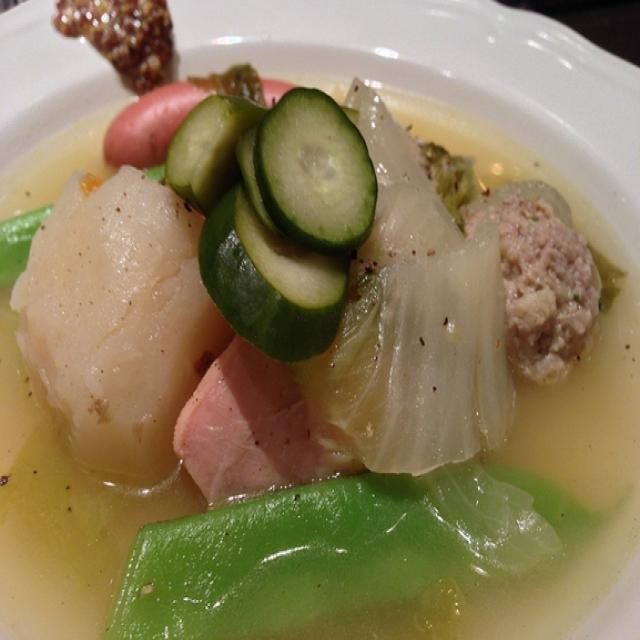汤锅炖物: (15, 11, 628, 628)
